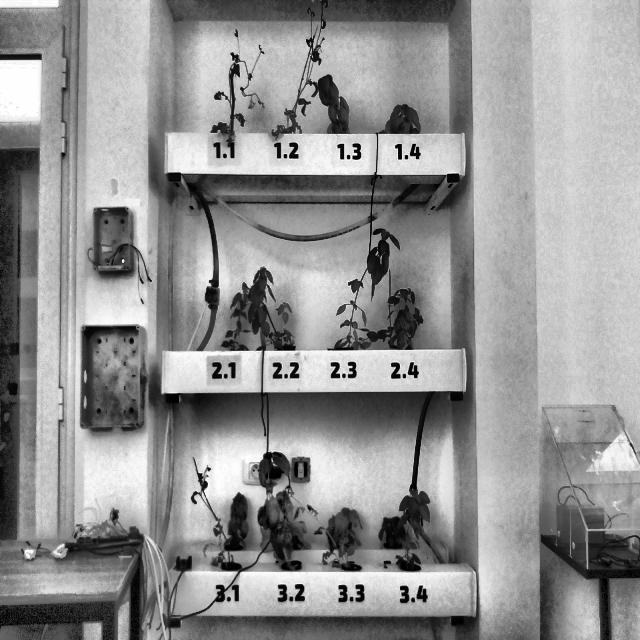plants: (272, 1, 334, 137), (332, 225, 392, 353), (209, 25, 264, 140), (189, 457, 241, 572), (257, 453, 307, 569), (244, 267, 295, 350), (313, 502, 364, 577), (394, 483, 432, 575), (384, 288, 423, 350), (317, 74, 354, 134), (325, 506, 367, 551), (226, 292, 251, 352), (378, 104, 423, 135), (226, 492, 248, 552), (374, 512, 408, 550), (392, 308, 417, 349)
